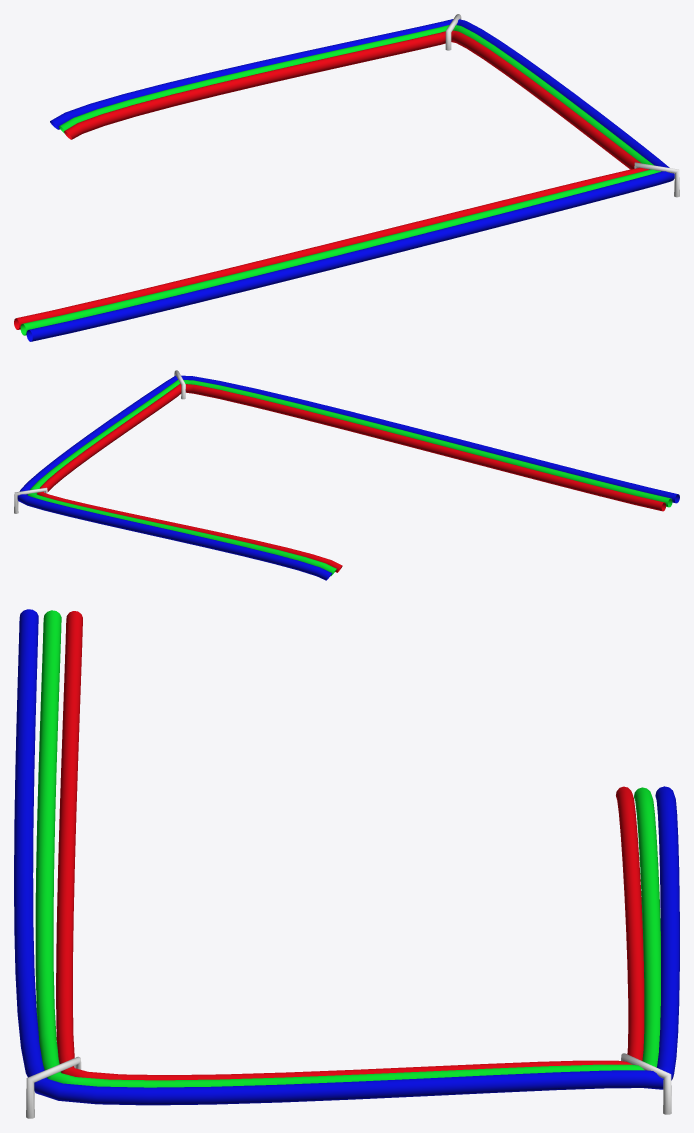
The model's file is cable.fbx.
The picture shows the model from 3 angles, top to bottom: view 1: azimuth 30°, elevation 25°; view 2: azimuth 150°, elevation 25°; view 3: azimuth 270°, elevation 25°; orthographic projection. The views are drawn at different scales.
Visible parts, largest first — view 1: BezierCurve.020, BezierCurve.019, BezierCurve.018; view 2: BezierCurve.019, BezierCurve.020, BezierCurve.018; view 3: BezierCurve.020, BezierCurve.018, BezierCurve.019, Staple.001.
Boxes of the visible parts, x1,y1,x2,y2 form: BezierCurve.020: (26,19,674,341); BezierCurve.019: (14,30,649,329); BezierCurve.018: (20,25,660,335); BezierCurve.019: (37,383,665,572); BezierCurve.020: (17,375,679,580); BezierCurve.018: (27,380,672,575); BezierCurve.020: (14,609,679,1105); BezierCurve.018: (35,610,660,1087); BezierCurve.019: (56,611,644,1080); Staple.001: (26,1056,81,1118).
Size of the model in its own units: 12.44 by 0.506 by 7.32.
